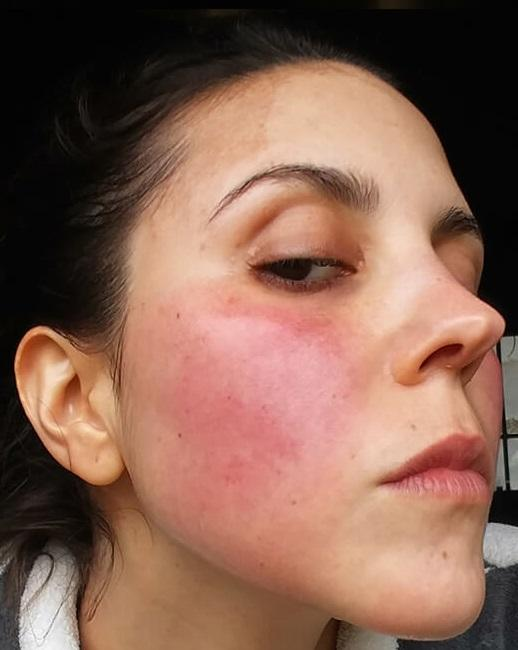Skin-Redness: (177, 305, 366, 495)
